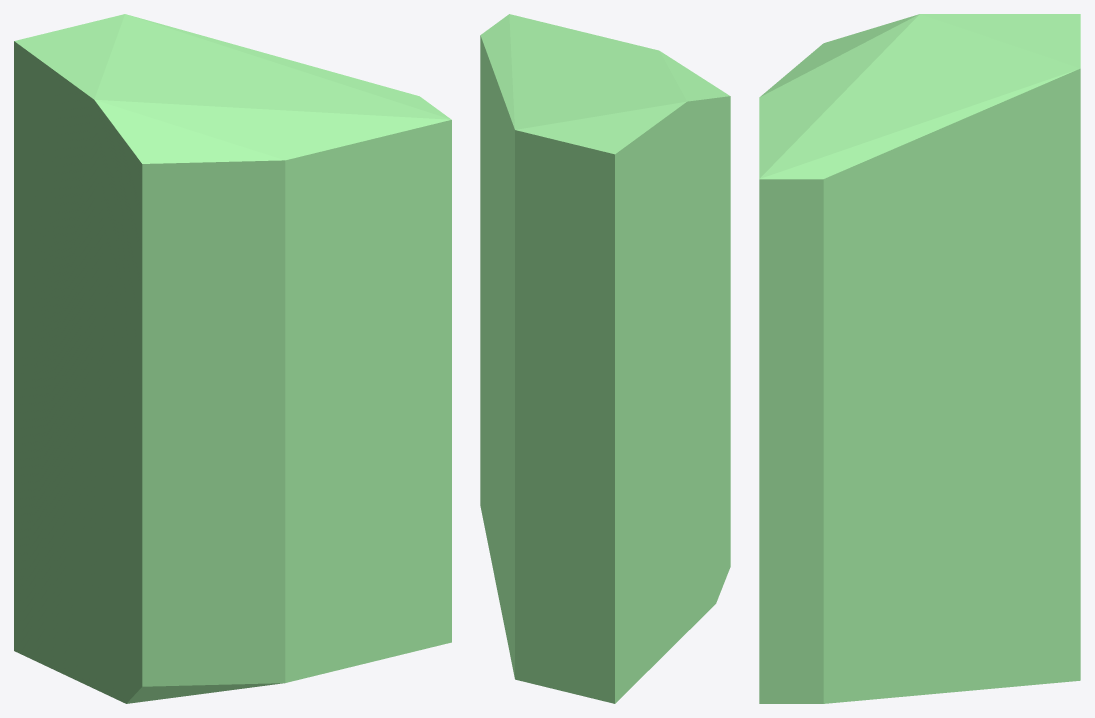
The model's file is rambler_robot_base_coll_27.dae.
The picture shows the model from 3 angles, left to right: view 1: azimuth 30°, elevation 25°; view 2: azimuth 150°, elevation 25°; view 3: azimuth 270°, elevation 25°; orthographic projection. The views are drawn at different scales.
Parts seen in each view (by area): view 1: Node_0x7fe0fc4d5380; view 2: Node_0x7fe0fc4d5380; view 3: Node_0x7fe0fc4d5380.
Part boxes in pixels (x1=…): Node_0x7fe0fc4d5380: x1=14, y1=14, x2=451, y2=703; Node_0x7fe0fc4d5380: x1=480, y1=14, x2=730, y2=703; Node_0x7fe0fc4d5380: x1=759, y1=14, x2=1080, y2=703.
Size of the model in its own units: 0.1369 by 0.2875 by 0.1368.
